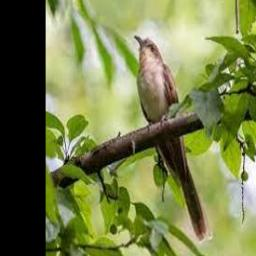Cuckoo: (133, 34, 213, 243)
